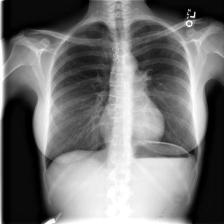normal: (43, 14, 200, 180)
